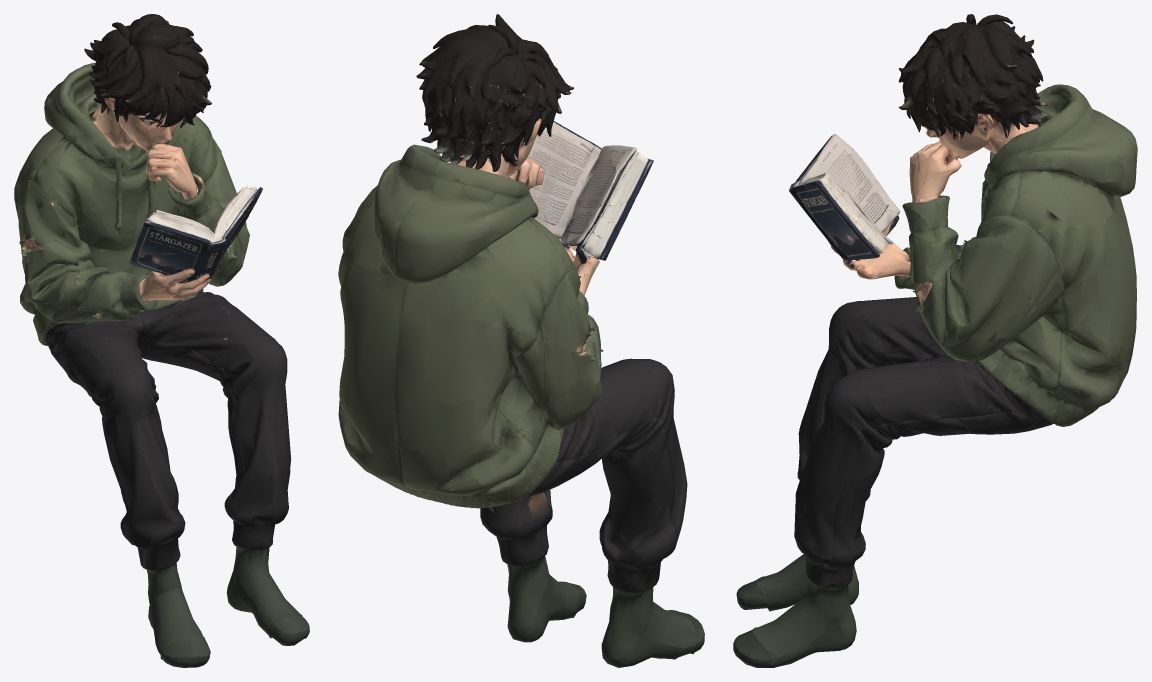
File: reader.glb
3 views of the same model, side by side, from view 1: azimuth 30°, elevation 25°; view 2: azimuth 150°, elevation 25°; view 3: azimuth 270°, elevation 25° (orthographic). The views are drawn at different scales.
Parts seen in each view (by area): view 1: CH_StairReader; view 2: CH_StairReader; view 3: CH_StairReader.
Boxes of the visible parts, <box> form: CH_StairReader: <box>14,14,309,667</box>; CH_StairReader: <box>338,14,704,667</box>; CH_StairReader: <box>733,14,1137,667</box>.
Size of the model in its own units: 0.5171 by 1.36 by 0.8082.
1 material, 1 textured.
